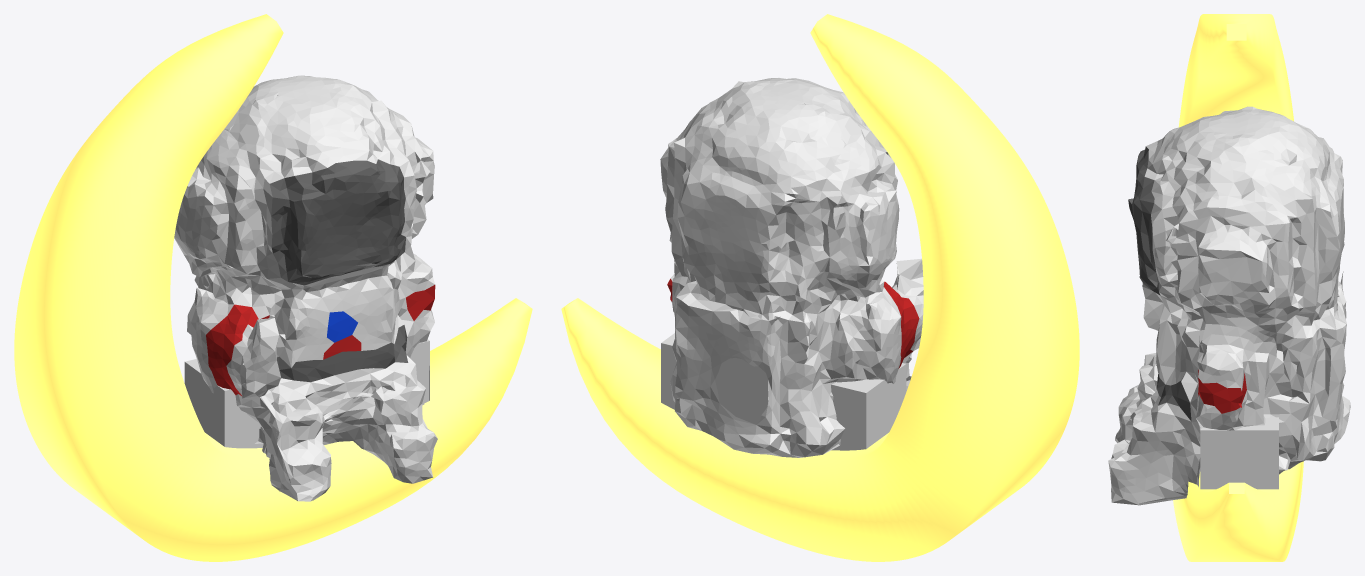
Rendered from toy_repaired.fbx.
3 views of the same model, side by side, from view 1: azimuth 30°, elevation 25°; view 2: azimuth 150°, elevation 25°; view 3: azimuth 270°, elevation 25° (orthographic).
Visible parts, largest first — view 1: MOON, toy_possion_cleaned; view 2: MOON, toy_possion_cleaned; view 3: toy_possion_cleaned, MOON.
Part boxes in pixels (bbox=[...]): MOON: bbox=[14, 14, 532, 561]; toy_possion_cleaned: bbox=[174, 75, 437, 501]; MOON: bbox=[561, 14, 1079, 561]; toy_possion_cleaned: bbox=[660, 78, 923, 457]; toy_possion_cleaned: bbox=[1108, 106, 1350, 505]; MOON: bbox=[1173, 14, 1303, 561].
Bounding box in the file's own units: 217 × 218 × 96.12.
